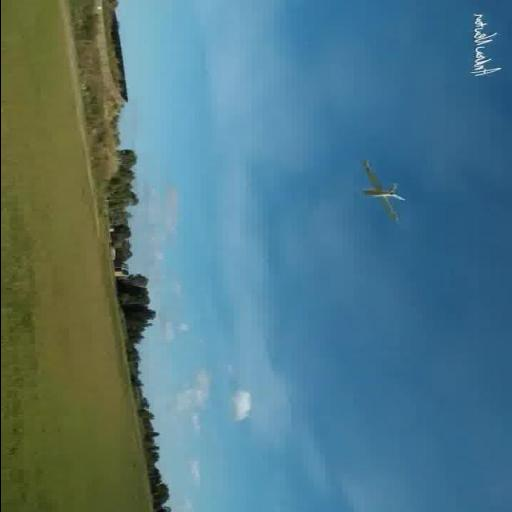uav: (336, 148, 426, 232)
